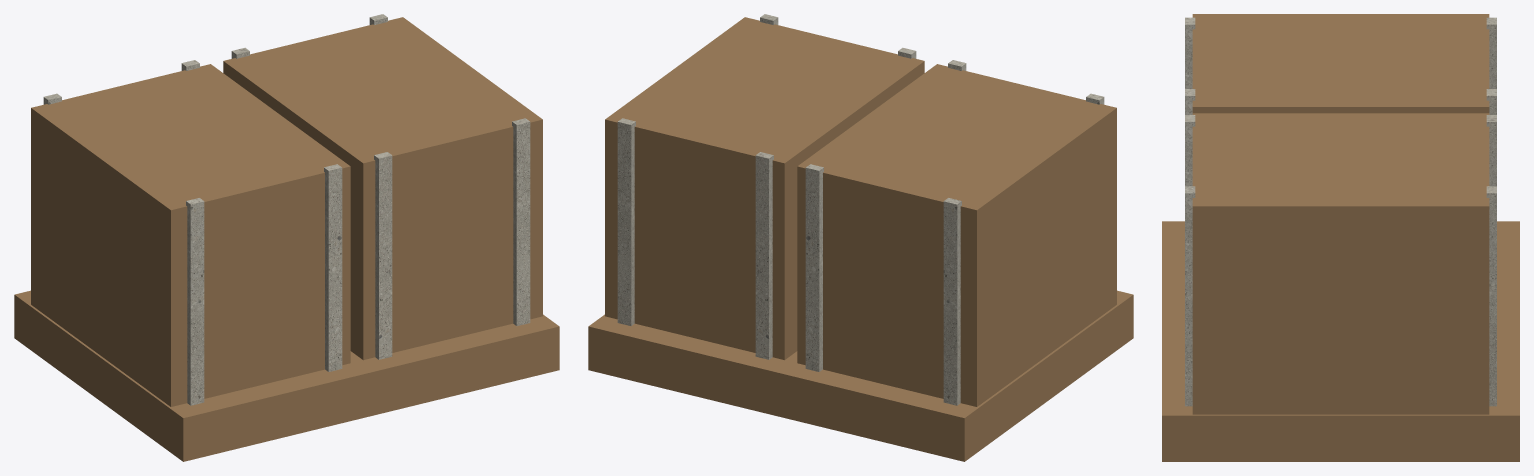
The model's file is pallet_crates.glb.
3 views of the same model, side by side, from view 1: azimuth 30°, elevation 25°; view 2: azimuth 150°, elevation 25°; view 3: azimuth 270°, elevation 25° (orthographic). The views are drawn at different scales.
Parts seen in each view (by area): view 1: pallet_crates; view 2: pallet_crates; view 3: pallet_crates.
Part boxes in pixels (x1,y1,x2,y2): pallet_crates: [14, 14, 559, 461]; pallet_crates: [588, 14, 1133, 461]; pallet_crates: [1162, 14, 1519, 461].
Size of the model in its own units: 1.8 by 1.12 by 1.4.
